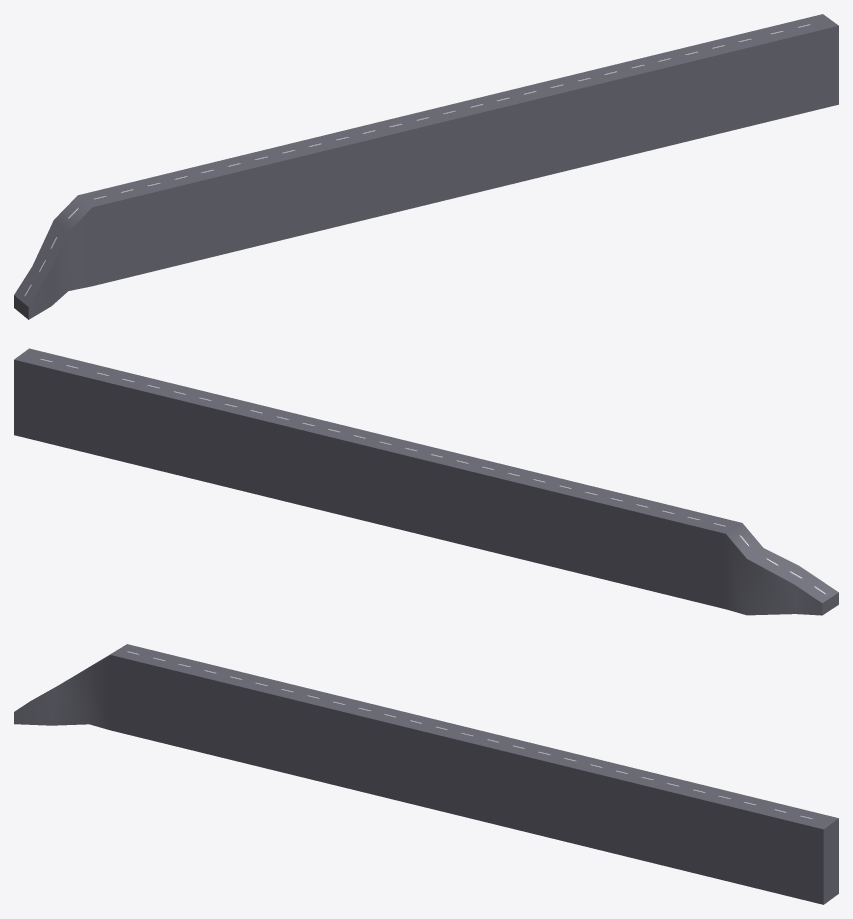
File: road_11.gltf
3 views of the same model, one above another, from view 1: azimuth 30°, elevation 25°; view 2: azimuth 150°, elevation 25°; view 3: azimuth 330°, elevation 25° (orthographic). The views are drawn at different scales.
Parts seen in each view (by area): view 1: road; view 2: road; view 3: road.
Boxes of the visible parts, bbox=[...] form: road: bbox=[14, 14, 838, 319]; road: bbox=[14, 348, 838, 615]; road: bbox=[14, 644, 838, 904].
Bounding box in the file's own units: 26.76 × 2.44 × 1.99.
Materials: 1 (1 with a texture image).
